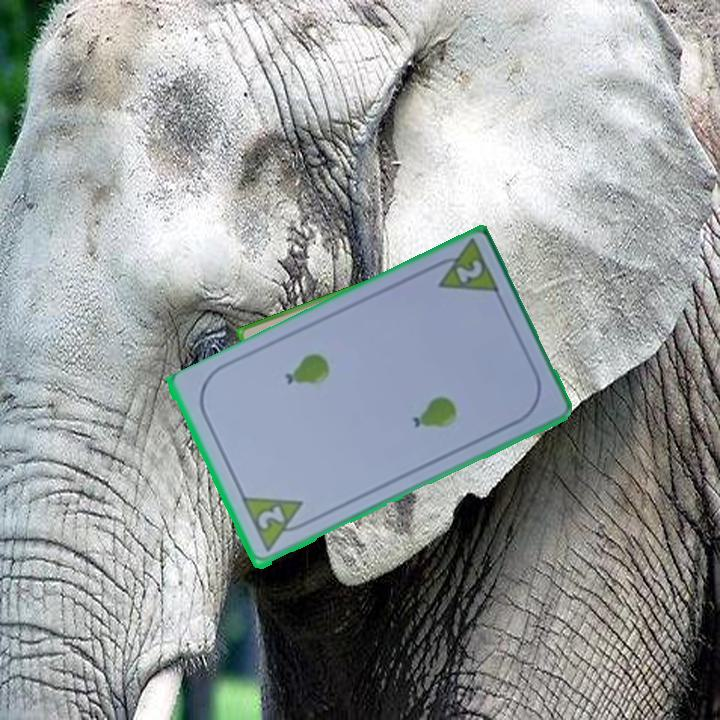2p: (424, 237, 503, 299), (238, 493, 314, 556)
